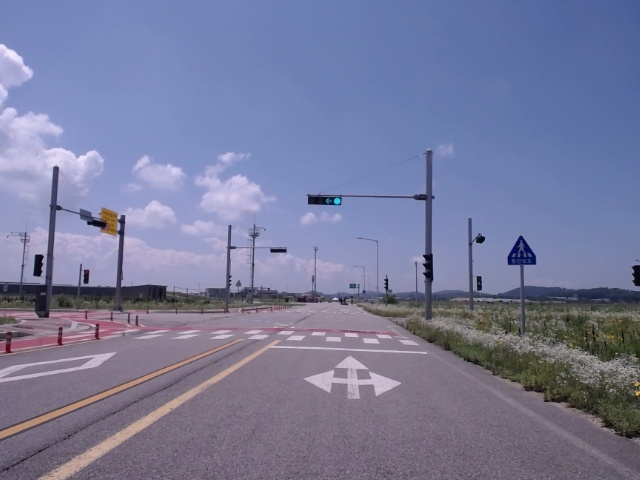all_green_4: (307, 193, 344, 206)
